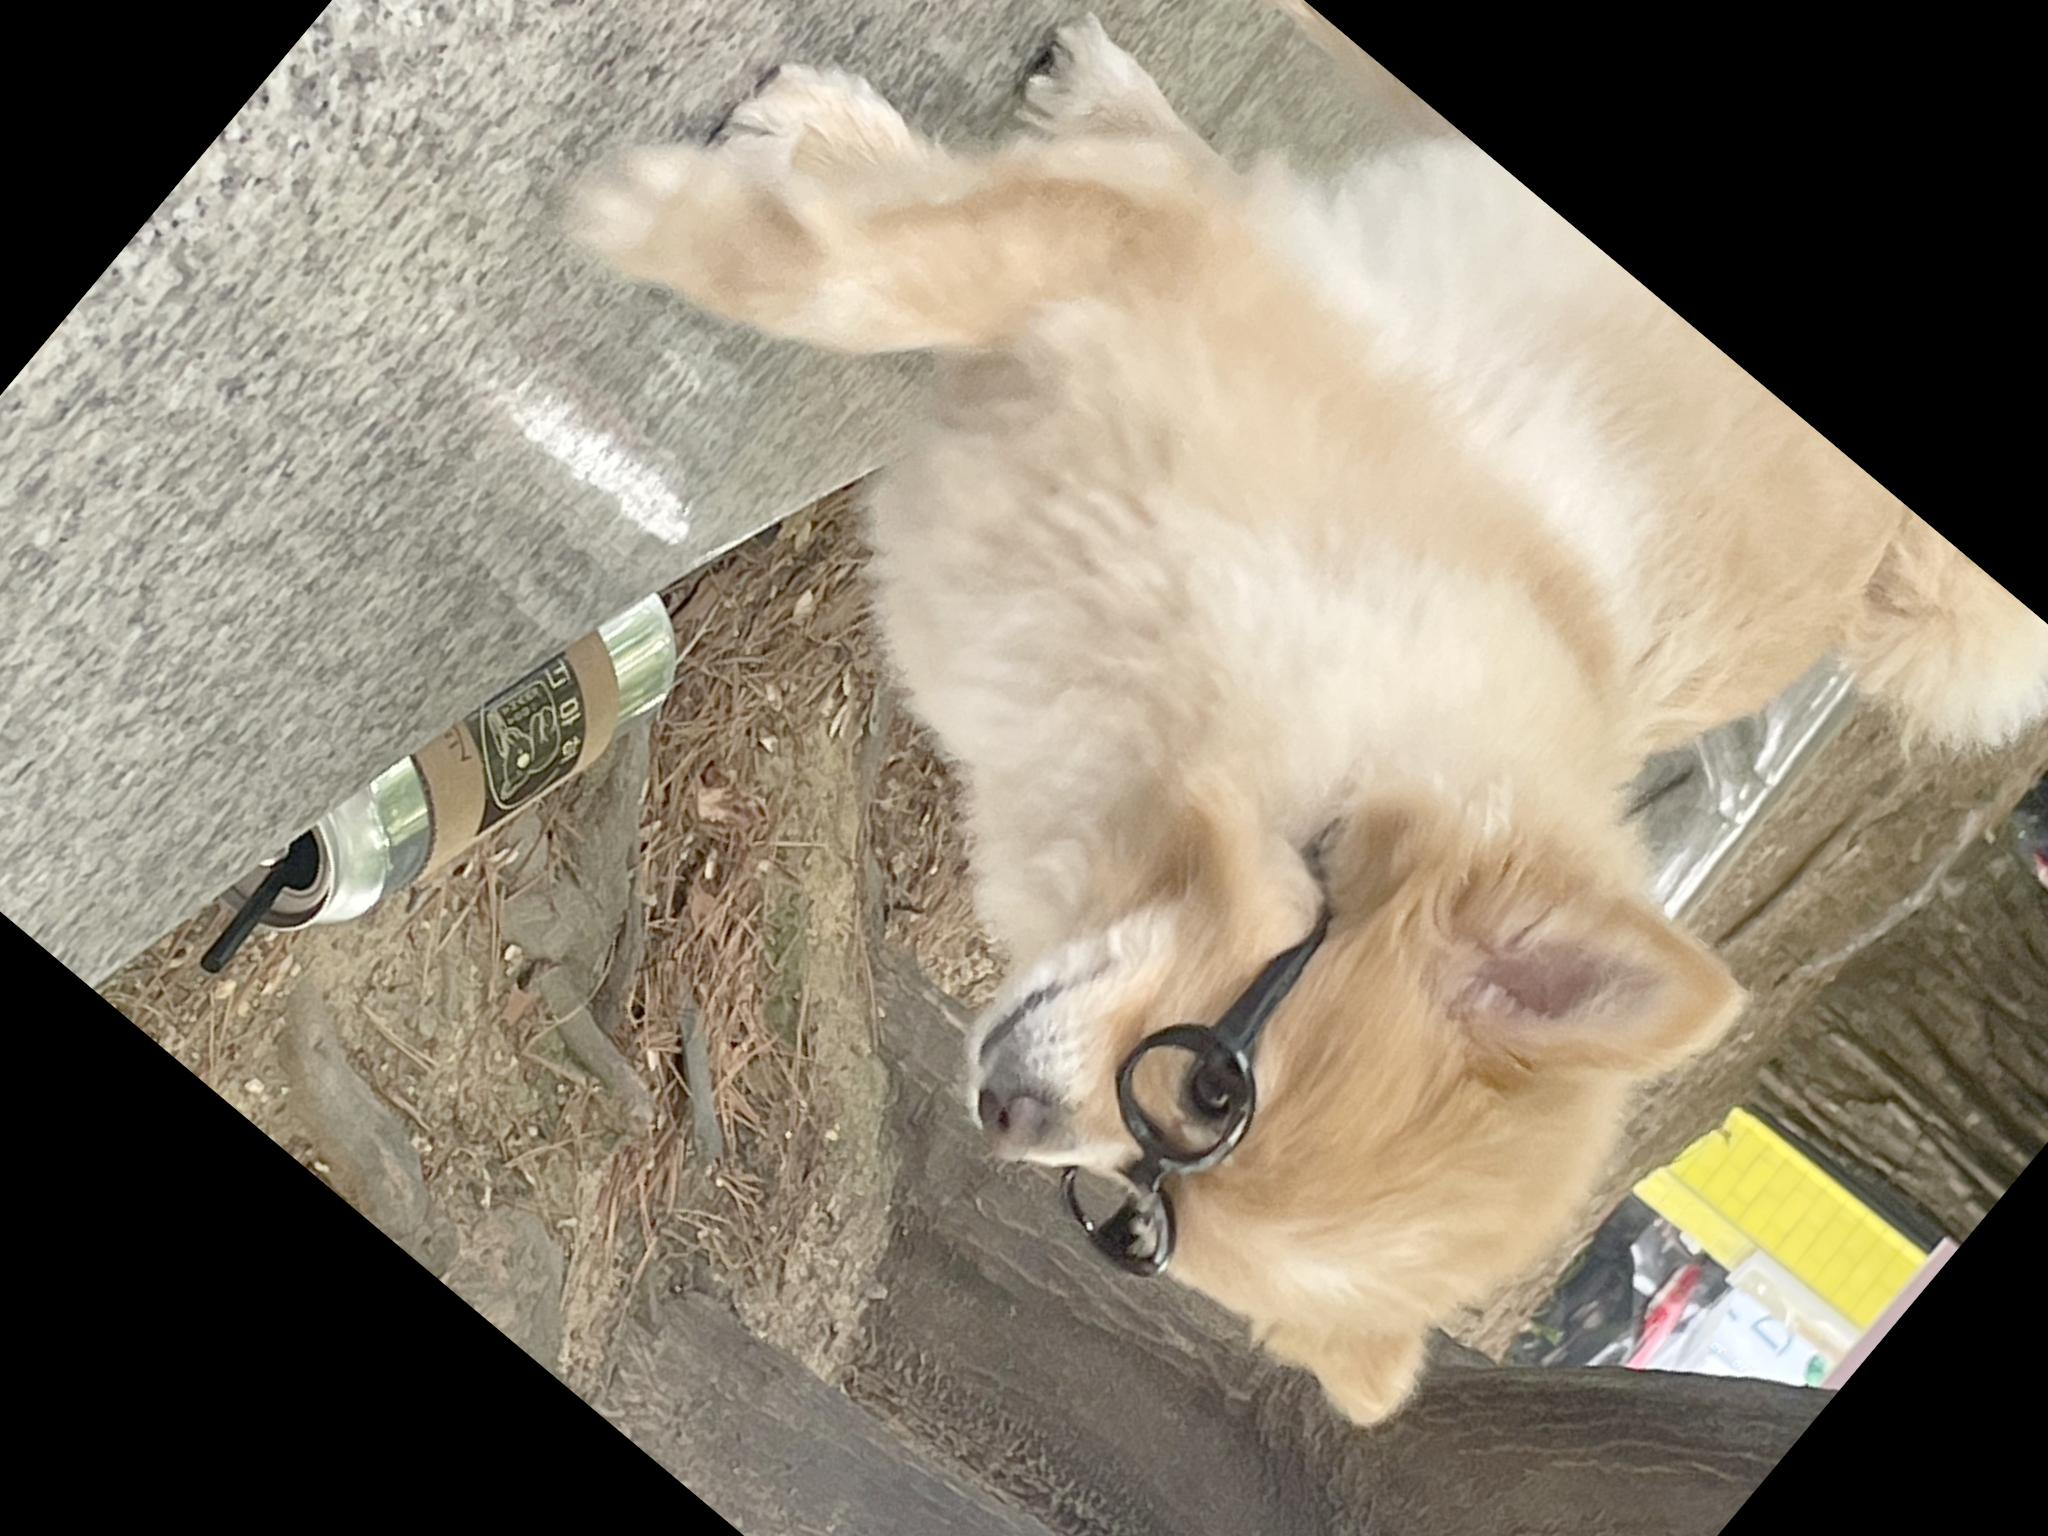dog: (140, 63, 1785, 1536)
